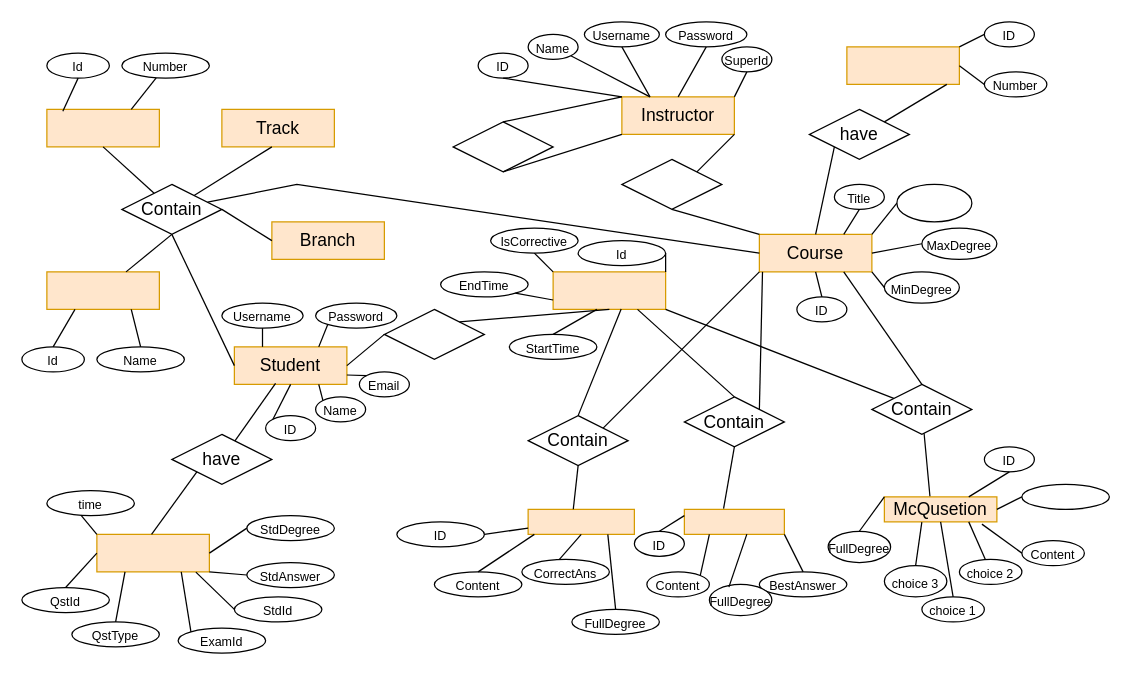
This 1131x675 diagram has some shape labels left out. Each missing label, with the centre of its shape:
attend: point (433, 333)
Class: point (902, 65)
CorrectChoice: point (1065, 496)
Department: point (102, 290)
Description: point (934, 202)
Exam: point (609, 290)
Intake: point (102, 127)
manage: point (502, 146)
StdAnswers: point (152, 552)
teach: point (671, 183)
TfQusetion: point (580, 521)
TxtQuestion: point (733, 521)
